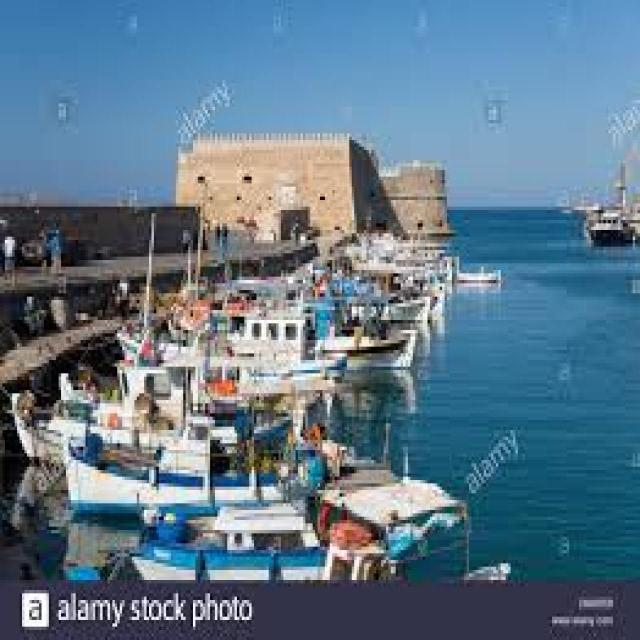Kules: (175, 135, 459, 244)
